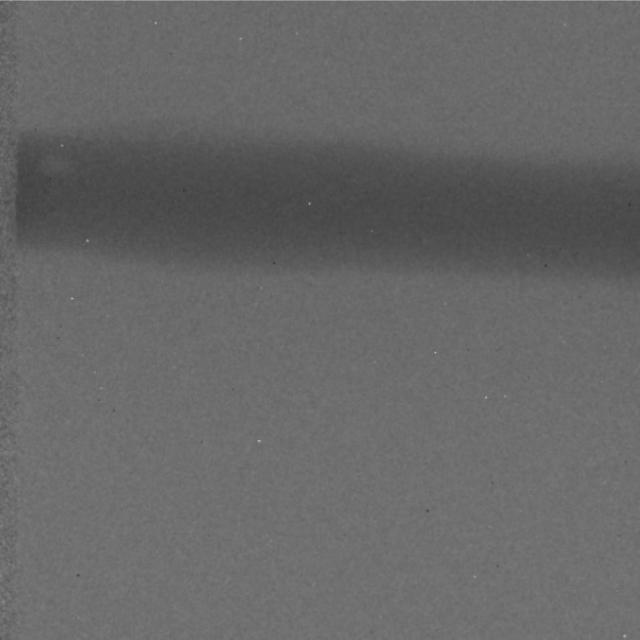slag inclusion: (29, 149, 82, 186)
